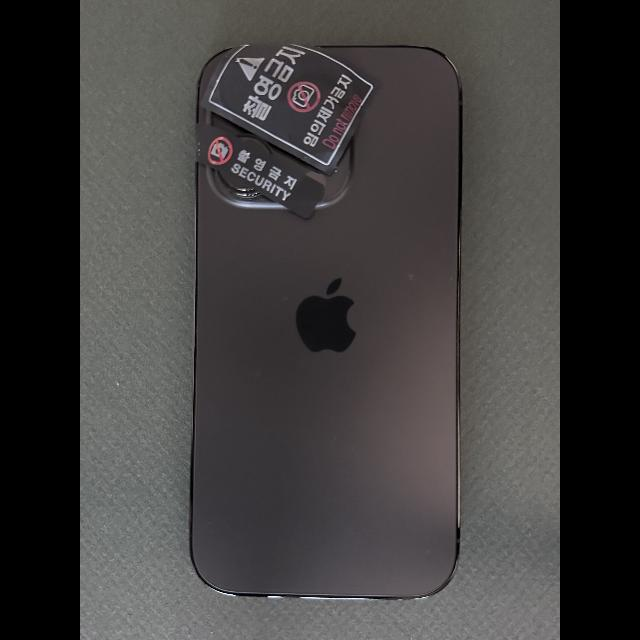lens: (217, 171, 262, 197)
phone: (189, 44, 463, 600)
sticker: (200, 45, 382, 176), (195, 122, 325, 219)
